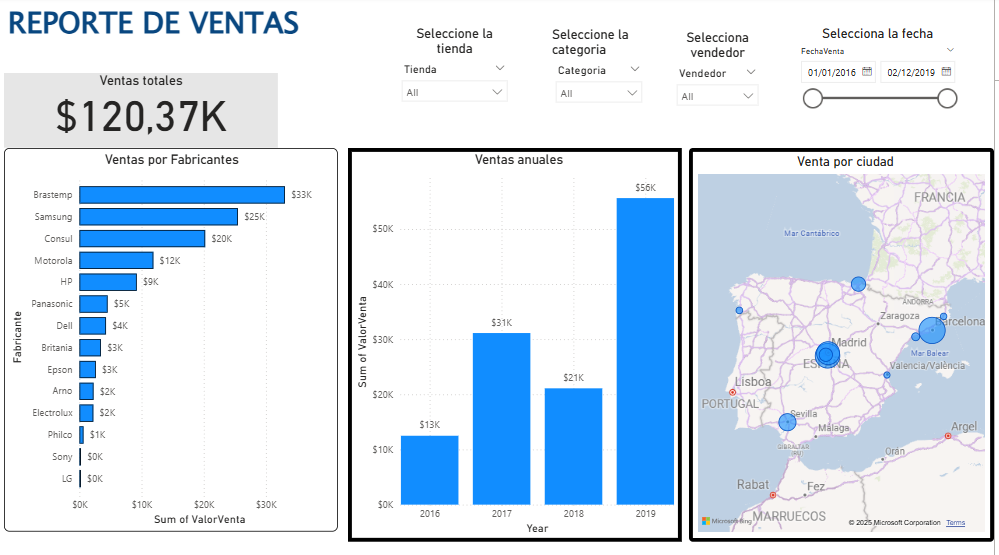

The page's visual inventory and layout, read from the dashboard file:
{"tool":"powerbi","page":{"name":"Page 1","canvas":[1280,720],"ordinal":0},"visuals":[{"type":"clusteredBarChart","title":"Ventas por Fabricantes","fields":{"Category":["DIM_producto.Fabricante"],"Y":["Sum(Hechos-venta.ValorVenta)"]},"box":[7.7,194.1,429.2,493.5],"z":0},{"type":"columnChart","title":"Ventas anuales","fields":{"Category":["DIM_Tiempo.FechaVenta.Variation.Date Hierarchy.Year"],"Y":["Sum(Hechos-venta.ValorVenta)"]},"box":[449.8,194.1,429.2,506.3],"z":1000},{"type":"map","title":"Venta por ciudad","fields":{"Category":["DIM_Tienda.Ciudad"],"Size":["Sum(Hechos-venta.ValorVenta)"]},"box":[888,194.1,392,506.3],"z":2000},{"type":"card","title":"Ventas totales","fields":{"Values":["Sum(Hechos-venta.ValorVenta)"]},"box":[7.7,97.7,352.1,96.4],"z":3000},{"type":"slicer","title":"Seleccione la tienda","fields":{"Values":["DIM_Tienda.Tienda"]},"box":[508.9,37.3,155.5,109.2],"z":3001},{"type":"slicer","title":"Seleccione la categoria","fields":{"Values":["DIM_producto.Categoria"]},"box":[706.8,38.6,131.1,122.1],"z":3002},{"type":"slicer","title":"Selecciona vendedor","fields":{"Values":["DIM_vendedor.Vendedor"]},"box":[862.3,42.4,124.7,109.2],"z":3003},{"type":"textbox","box":[0,0,399.7,75.8],"z":3004},{"type":"slicer","title":"Selecciona la fecha","fields":{"Values":["DIM_Tiempo.FechaVenta"]},"box":[1019.1,37.3,222.3,136.2],"z":3005}]}

Visuals, with their boxes in screenshot pixels (x1, y1, x2, y2), scaled from the page's 1280x720 canvas onto the 999x555 screenshot:
"Ventas por Fabricantes" clusteredBarChart: bbox=(6, 150, 341, 530)
"Ventas anuales" columnChart: bbox=(351, 150, 686, 540)
"Venta por ciudad" map: bbox=(693, 150, 998, 540)
"Ventas totales" card: bbox=(6, 75, 281, 150)
"Seleccione la tienda" slicer: bbox=(397, 29, 519, 113)
"Seleccione la categoria" slicer: bbox=(552, 30, 654, 124)
"Selecciona vendedor" slicer: bbox=(673, 33, 770, 117)
textbox: bbox=(0, 0, 312, 58)
"Selecciona la fecha" slicer: bbox=(795, 29, 969, 134)
